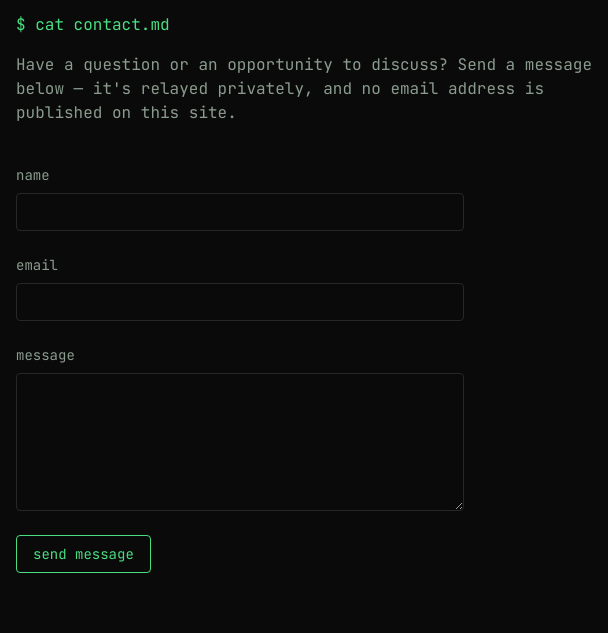
Test: Contact page › sends the correct payload to the relay endpoint on valid submission
The width and height of the screenshot is (608, 633).
Type "Ada Lovelace" into the field labelled "name". click: (240, 212)
box: [16,193,464,231]
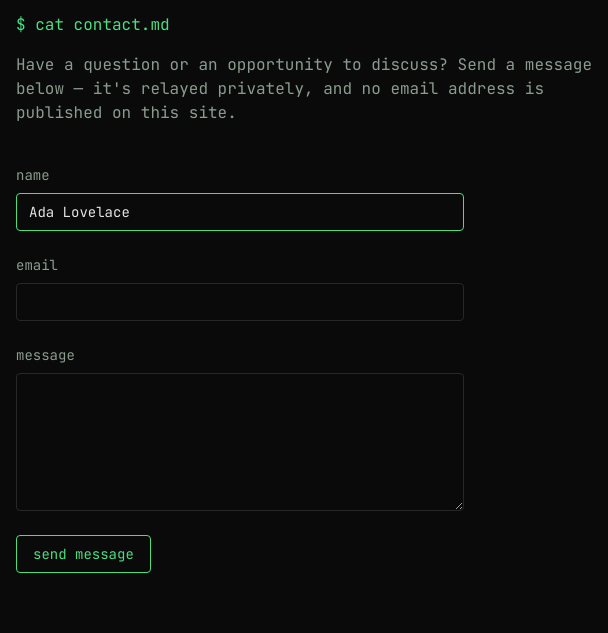
Type "ada@example.com" into the field labelled "email". click: (240, 302)
box: [16,283,464,321]
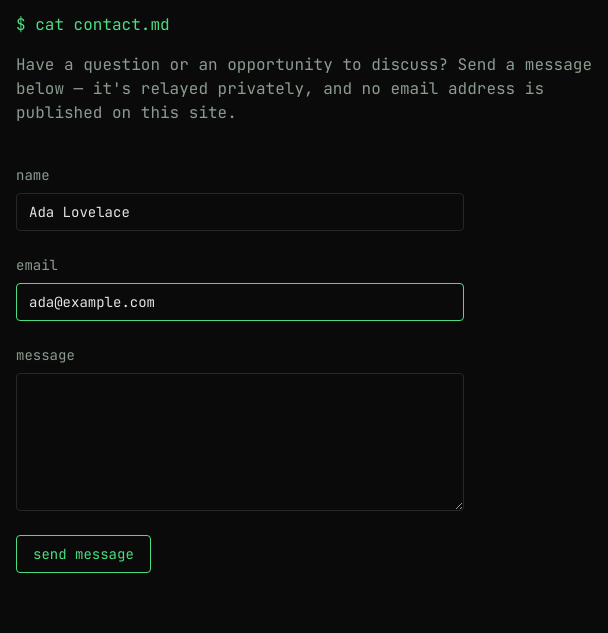
Type "Let's talk about opportunities." into the text box labelled "message". click: (240, 442)
box: [16,373,464,511]
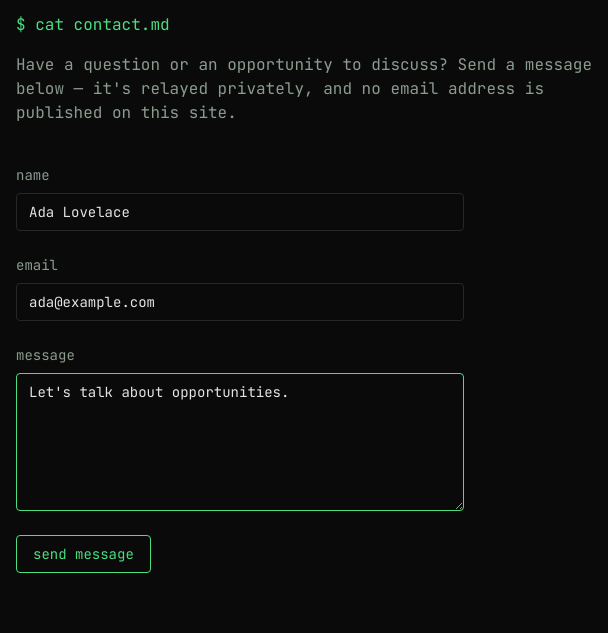
Click the button "send message". click: (83, 554)
box: [16,535,151,573]
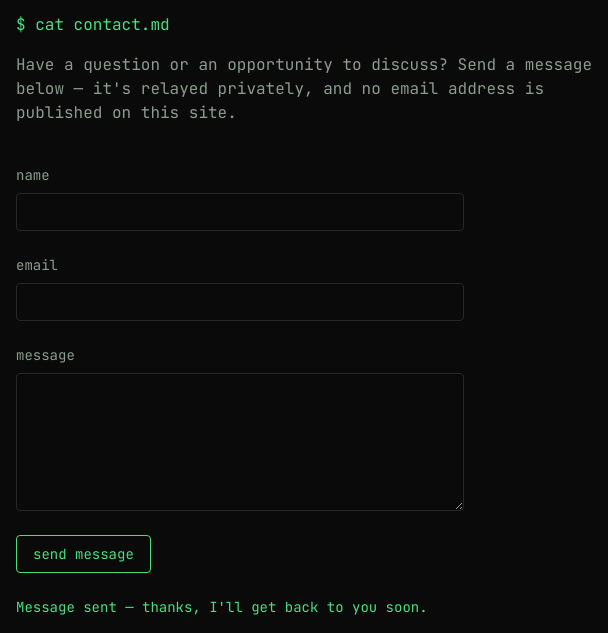
Now the message shows "sent", box [16,598,428,616]
